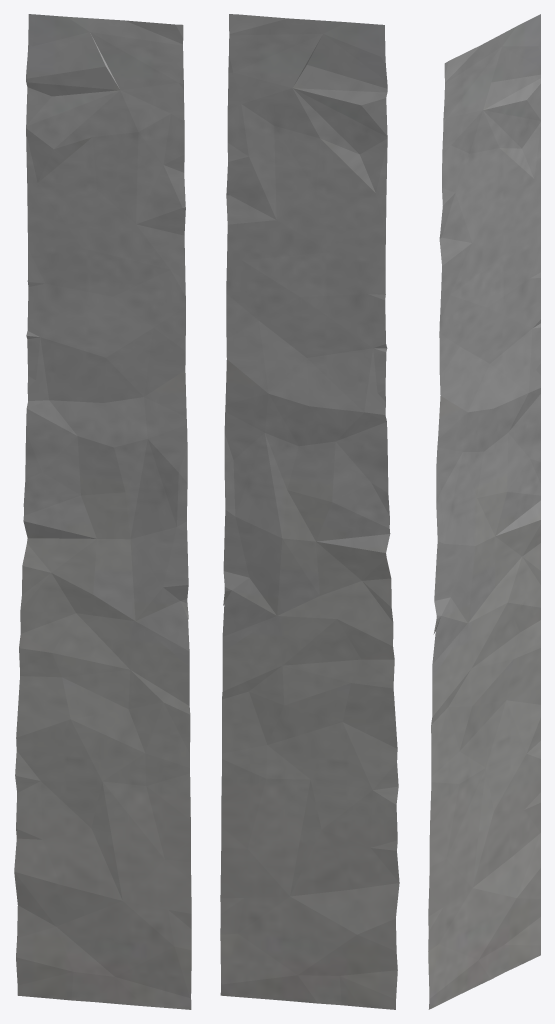
The picture shows the model from 3 angles, left to right: view 1: azimuth 30°, elevation 25°; view 2: azimuth 210°, elevation 25°; view 3: azimuth 270°, elevation 25°; orthographic projection. The views are drawn at different scales.
Size of the model in its own units: 0.1068 by 0.8374 by 0.0903.
1 material, 1 textured.
